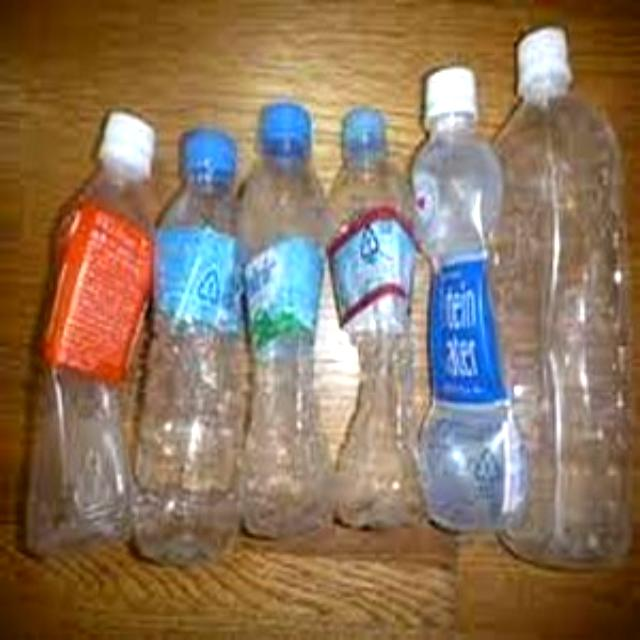Plastic: (498, 28, 634, 574), (404, 64, 532, 530), (34, 107, 154, 558), (234, 101, 328, 539), (328, 102, 422, 534), (150, 131, 236, 563)
